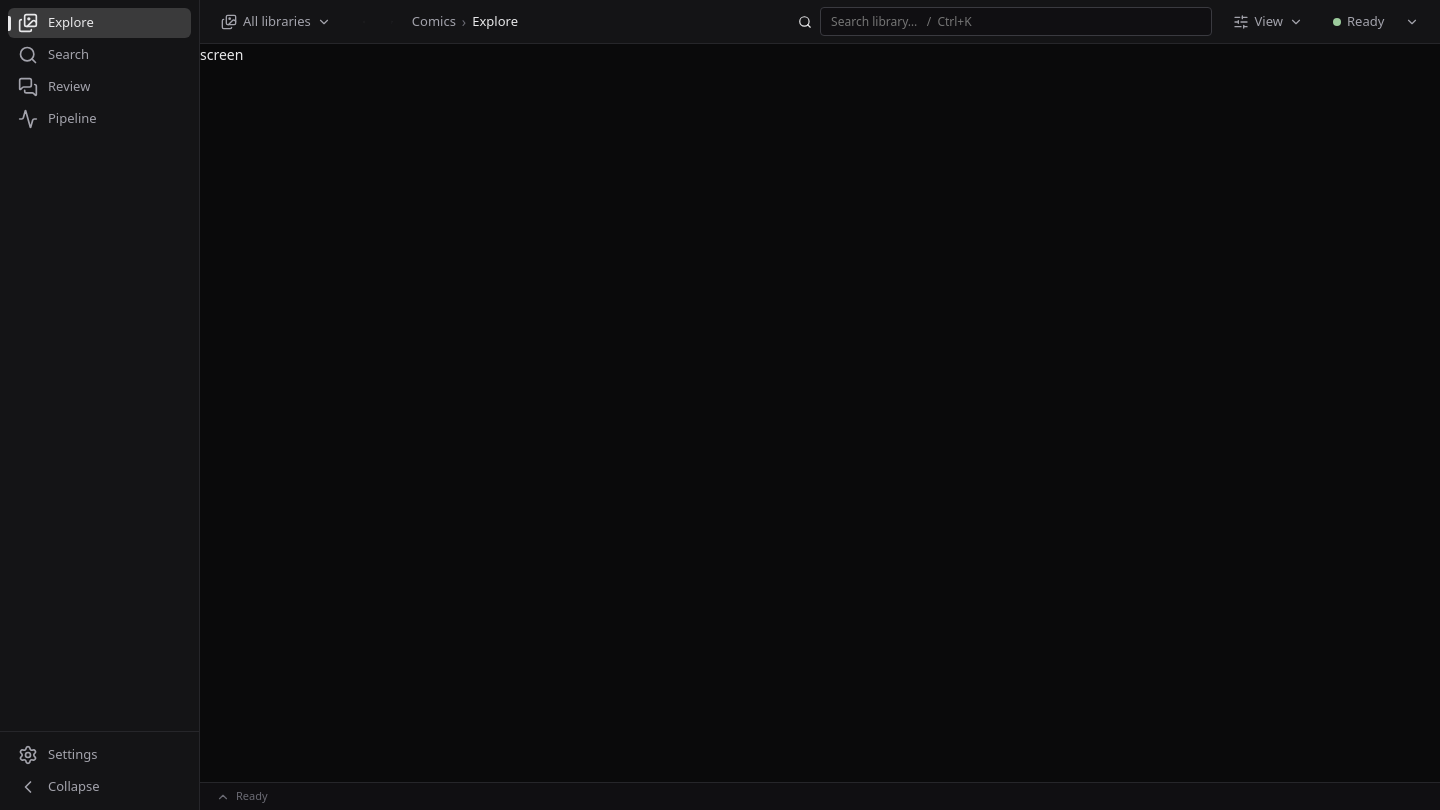
it: View menu (NAV-13, NAV-31) › offers privacy blur in the View menu (PRV-01)
Click the button "View": point(1268, 22) [1224,6,1312,36]
(page scrolled)
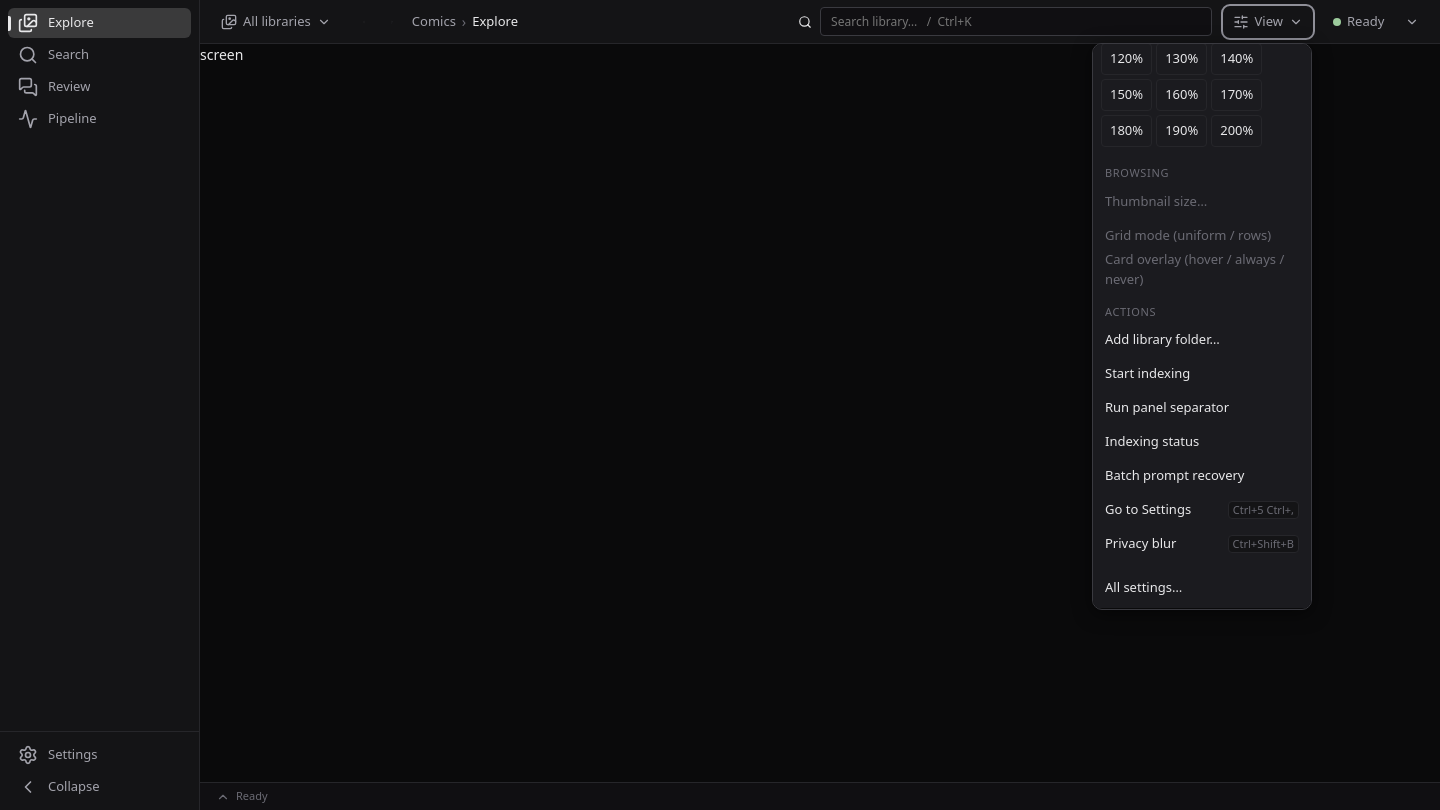
Check: the text "Ctrl+Shift+B" is shown, box [1228,535,1299,553]
